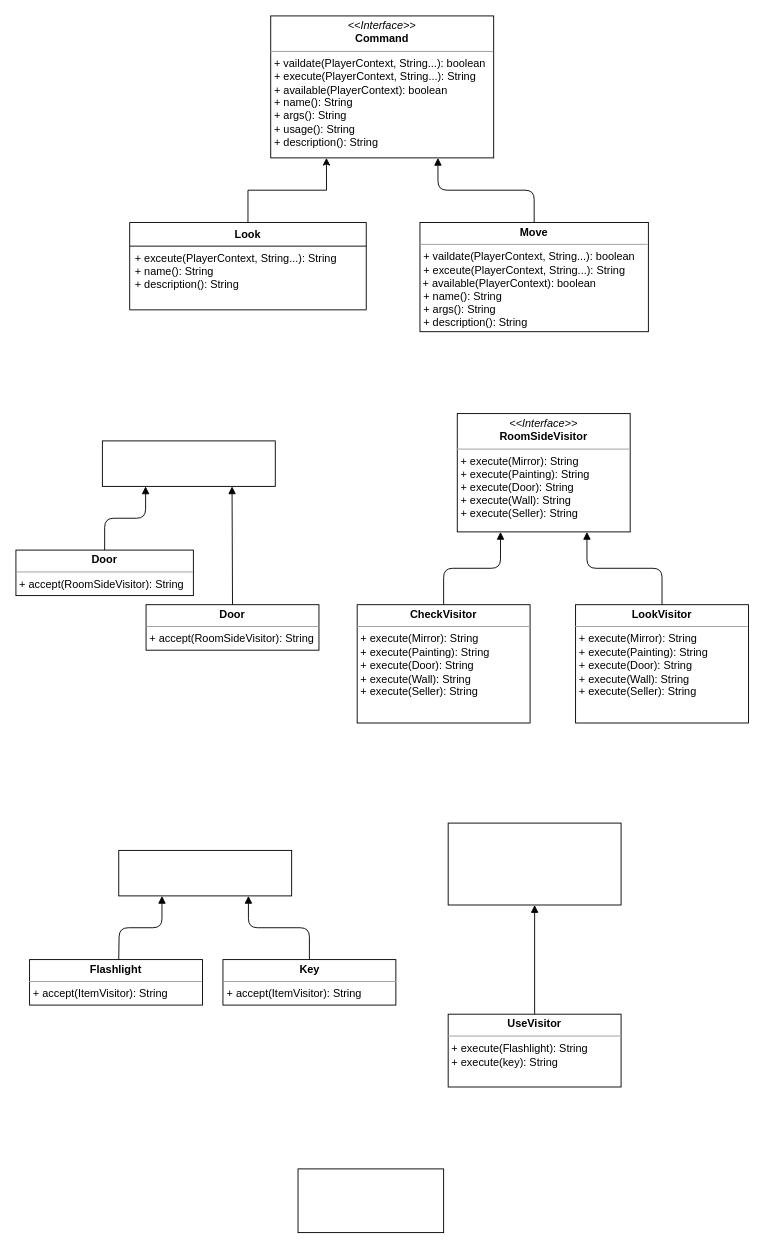
Some shapes in this 764 by 1249 pixel diagram are drawn without their labels. The shapes that lost their labels are listed below. From the top down, each one's centre as x and y in pixels, then its label:
At point 188,463: "RoomSide + accept(RoomSideVisitor): void".
At point 205,872: "Item + accept(ItemVisitor): String".
At point 534,863: "<<Interface>> ItemVisitor + execute(Flashlight): String + execute(key): String".
At point 370,1200: "ItemFactory + valueOf(String): Item + getFactory(): ItemFactory".
